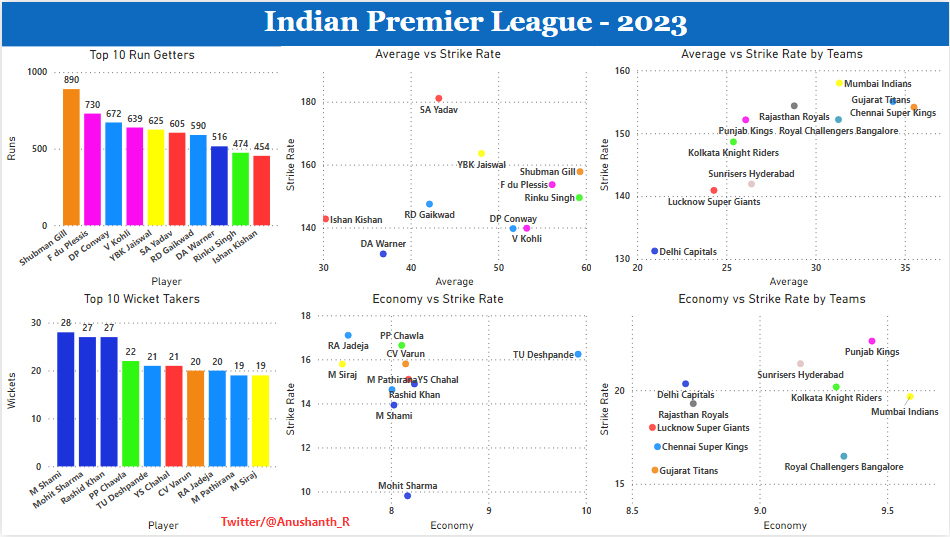

The dashboard page shown, as its layout file describes it:
{"tool":"powerbi","page":{"name":"IPL 2023","canvas":[1280,720],"ordinal":0},"visuals":[{"type":"textbox","box":[0,0,1280.5,60],"z":0},{"type":"columnChart","title":"Top 10 Run Getters","fields":{"Category":["all_batters.Player"],"Y":["Sum(all_batters.Runs)"],"Series":["all_batters.Team"]},"box":[0,60.5,378.7,329.8],"z":1000},{"type":"columnChart","title":"Top 10 Wicket Takers","fields":{"Category":["all_bowlers.Player"],"Y":["Sum(all_bowlers.Wickets)"],"Series":["all_bowlers.Team"]},"box":[0,390.5,378.1,330],"z":2000},{"type":"scatterChart","title":"Average vs Strike Rate","fields":{"Category":["all_batters.Player"],"X":["Sum(all_batters.Average)"],"Y":["Sum(all_batters.SR)"],"Series":["all_batters.Team"]},"box":[377.6,60,424.4,330.7],"z":3000},{"type":"scatterChart","title":"Economy vs Strike Rate","fields":{"Category":["all_bowlers.Player"],"X":["Sum(all_bowlers.Economy)"],"Y":["Sum(all_bowlers.SR)"],"Series":["all_bowlers.Team"]},"box":[377.6,390.7,424.4,329.3],"z":4000},{"type":"scatterChart","title":"Average vs Strike Rate by Teams","fields":{"Category":["teamwise_batting.Team"],"Y":["teamwise_batting.SR"],"X":["teamwise_batting.Average"],"Series":["teamwise_batting.Team"]},"box":[802,60,478.5,330.7],"z":5000},{"type":"scatterChart","title":"Economy vs Strike Rate by Teams","fields":{"Category":["teamwise_bowling.Team"],"X":["teamwise_bowling.Economy"],"Y":["teamwise_bowling.Strike Rate"],"Series":["teamwise_bowling.Team"]},"box":[802,391,478,329],"z":6000},{"type":"textbox","box":[290,686,199,31],"z":7000}]}

Visuals, with their boxes in screenshot pixels (x1, y1, x2, y2), scaled from the page's 1280x720 canvas onto the 950x537 screenshot:
textbox: select_region(0, 0, 949, 45)
"Top 10 Run Getters" columnChart: select_region(0, 45, 281, 291)
"Top 10 Wicket Takers" columnChart: select_region(0, 291, 281, 536)
"Average vs Strike Rate" scatterChart: select_region(280, 45, 595, 291)
"Economy vs Strike Rate" scatterChart: select_region(280, 291, 595, 536)
"Average vs Strike Rate by Teams" scatterChart: select_region(595, 45, 949, 291)
"Economy vs Strike Rate by Teams" scatterChart: select_region(595, 292, 949, 536)
textbox: select_region(215, 512, 363, 535)
